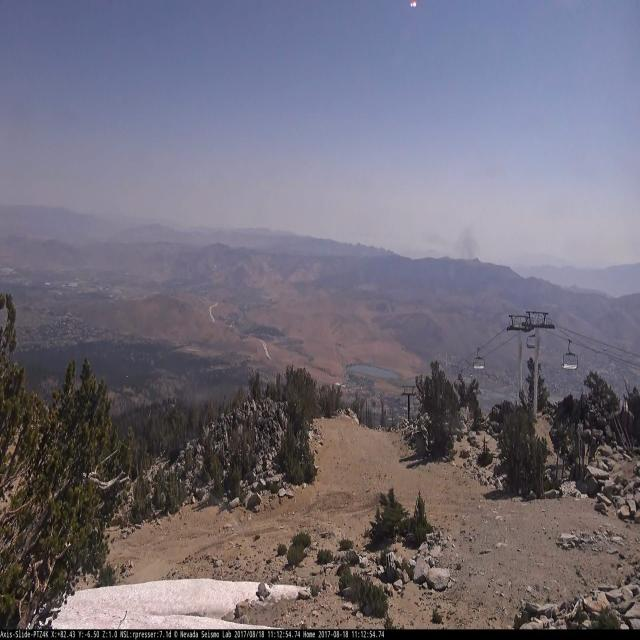smoke: (458, 222, 480, 258)
